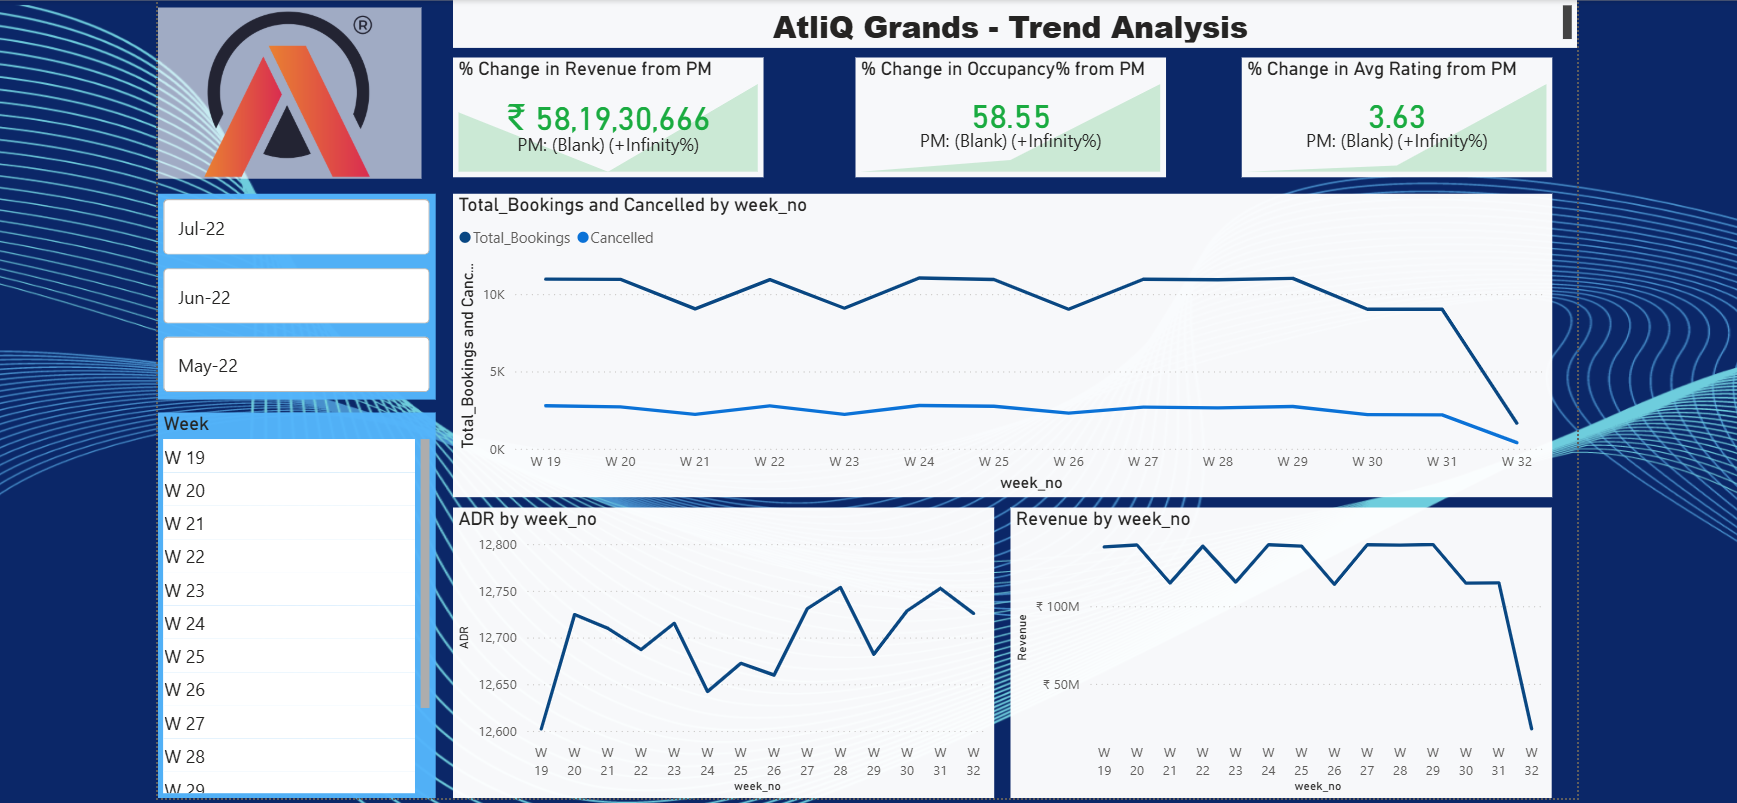

Layout of this report page (visuals, bound fields, positions):
{"tool":"powerbi","page":{"name":"Page 3","canvas":[1280,720],"ordinal":2},"visuals":[{"type":"kpi","title":"% Change in Revenue from PM","fields":{"Indicator":["Key Measures.Revenue"],"TrendLine":["dim_date.mmm_yy"],"Goal":["Key Measures.revPM"]},"box":[266.2,52.2,279.9,108.2],"z":0},{"type":"advancedSlicerVisual","fields":{"Values":["dim_date.mmm_yy"]},"box":[0,174.2,250,185.3],"z":1000},{"type":"listSlicer","title":"Week","fields":{"Values":["dim_date.week_no"]},"box":[0,371.9,250,348.3],"z":2000},{"type":"kpi","title":"% Change in Occupancy% from PM","fields":{"Indicator":["Key Measures.Occupancy%"],"TrendLine":["dim_date.mmm_yy"],"Goal":["Key Measures.occPM"]},"box":[629.4,52.2,279.9,108.2],"z":3000},{"type":"kpi","title":"% Change in Avg Rating from PM","fields":{"Indicator":["Key Measures.Average_Ratings"],"TrendLine":["dim_date.mmm_yy"],"Goal":["Key Measures.arPM"]},"box":[977.8,52.2,279.9,108.2],"z":4000},{"type":"lineChart","fields":{"Category":["dim_date.week_no"],"Y":["Key Measures.Total_Bookings","Key Measures.Cancelled"]},"box":[266.2,174.2,991.4,273.7],"z":5000},{"type":"lineChart","fields":{"Category":["dim_date.week_no"],"Y":["Key Measures.Revenue"]},"box":[769,458,488,262],"z":6000},{"type":"lineChart","fields":{"Category":["dim_date.week_no"],"Y":["Key Measures.ADR"]},"box":[266.2,457.8,487.6,262.5],"z":7000},{"type":"textbox","box":[266.2,0,1013.8,43.5],"z":8000},{"type":"image","box":[0,6.2,237.6,154.3],"z":9000}]}

Visuals, with their boxes in screenshot pixels (x1, y1, x2, y2):
"% Change in Revenue from PM" kpi: (447, 58, 756, 177)
advancedSlicerVisual - dim_date.mmm_yy: (154, 192, 430, 396)
"Week" listSlicer: (154, 410, 430, 794)
"% Change in Occupancy% from PM" kpi: (848, 58, 1157, 177)
"% Change in Avg Rating from PM" kpi: (1232, 58, 1541, 177)
lineChart - dim_date.week_no x Key Measures.Total_Bookings: (447, 192, 1541, 494)
lineChart - dim_date.week_no x Key Measures.Revenue: (1002, 505, 1540, 794)
lineChart - dim_date.week_no x Key Measures.ADR: (447, 505, 985, 794)
textbox: (447, 0, 1565, 48)
image: (154, 7, 416, 177)
